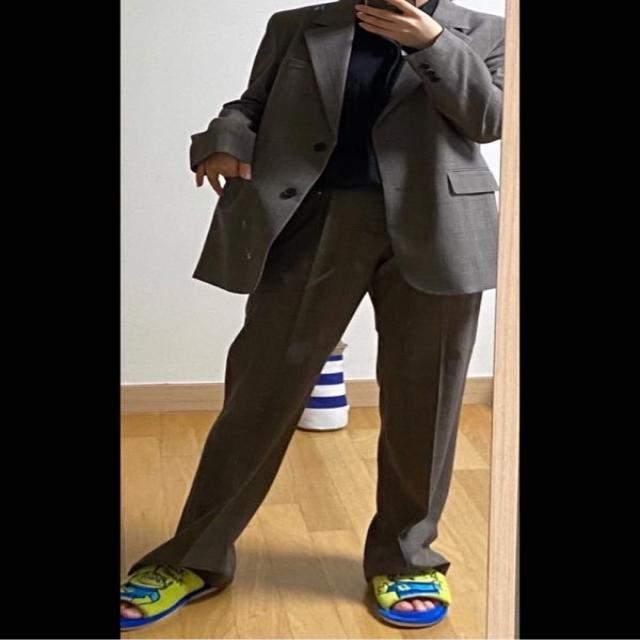blazer: (185, 0, 496, 293)
slacks: (128, 184, 484, 575)
